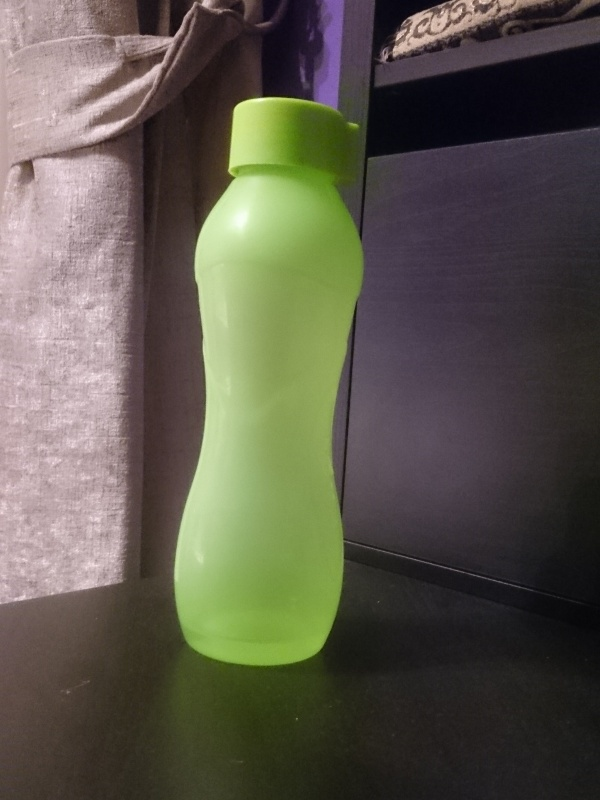my bottle: (170, 98, 368, 665)
